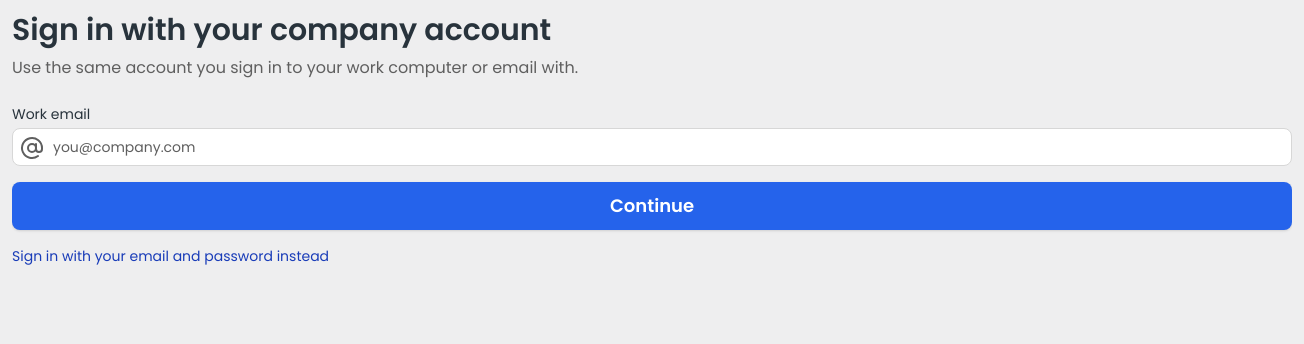
Test: Sign in with your company account › goes to the company's sign-in for the domain of the email typed
Later steps or results of the test are not shown.
Click the button "Continue".
click(652, 206)  # box [12,182,1292,230]
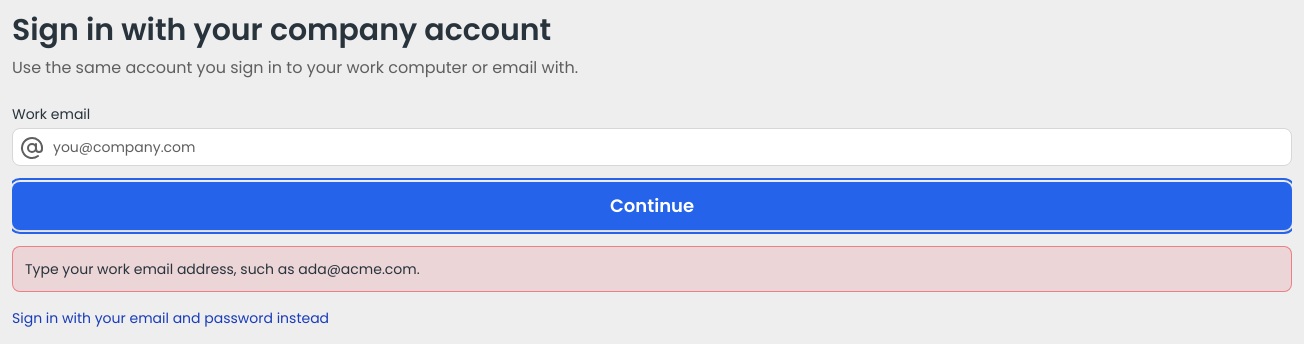
Result: the message shows "Type your work email address" at [25,259,420,279]
